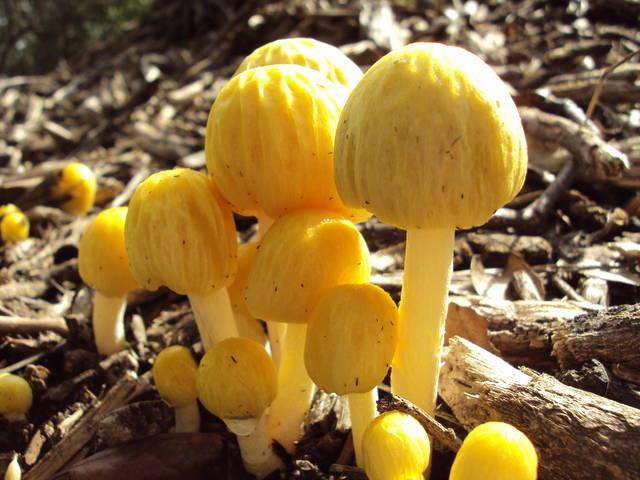edible_mushroom: (199, 32, 397, 429), (332, 40, 528, 418), (75, 156, 243, 314), (358, 421, 541, 480)
